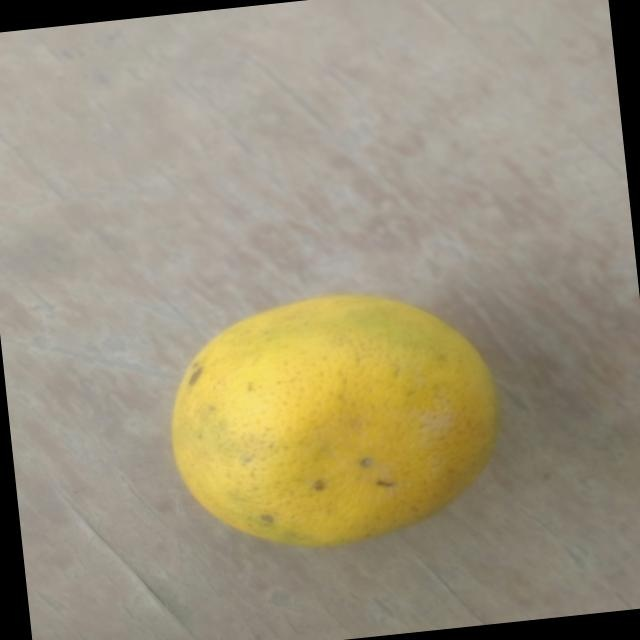agrume: (136, 268, 524, 576)
